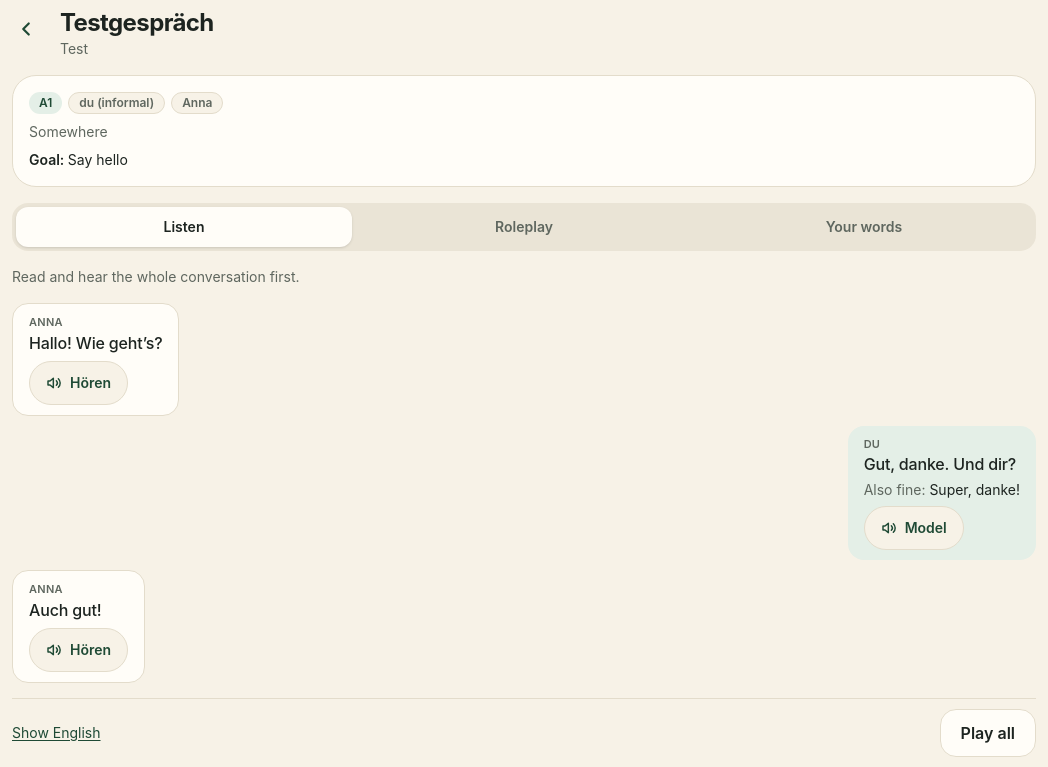
Test: ConversationPage roleplay › hides the learner line until it has been said, then logs practice
Expected: the heading "Testgespräch" is shown, [60,7,214,39]
Click the tab "Roleplay". click: {"x": 524, "y": 227}
box: [356,207,692,247]
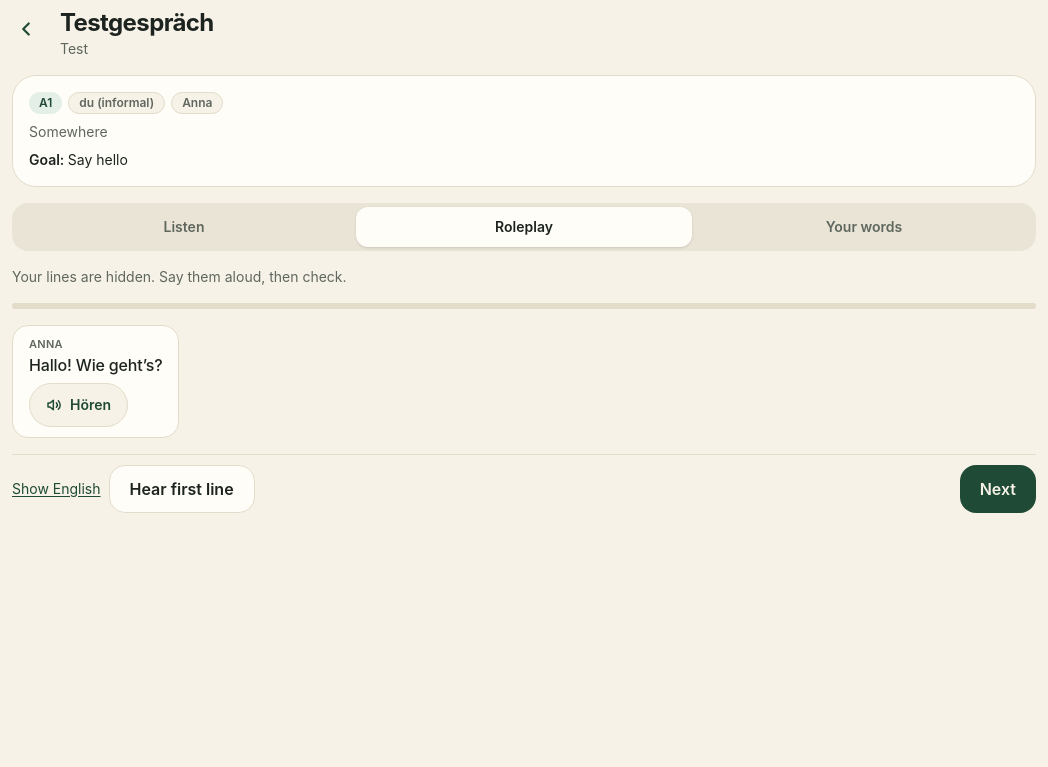
Expected: the text "Hallo! Wie geht’s?" is shown, [29,352,162,376]
Click the button "Next". click: {"x": 998, "y": 488}
box: [960,464,1036,512]
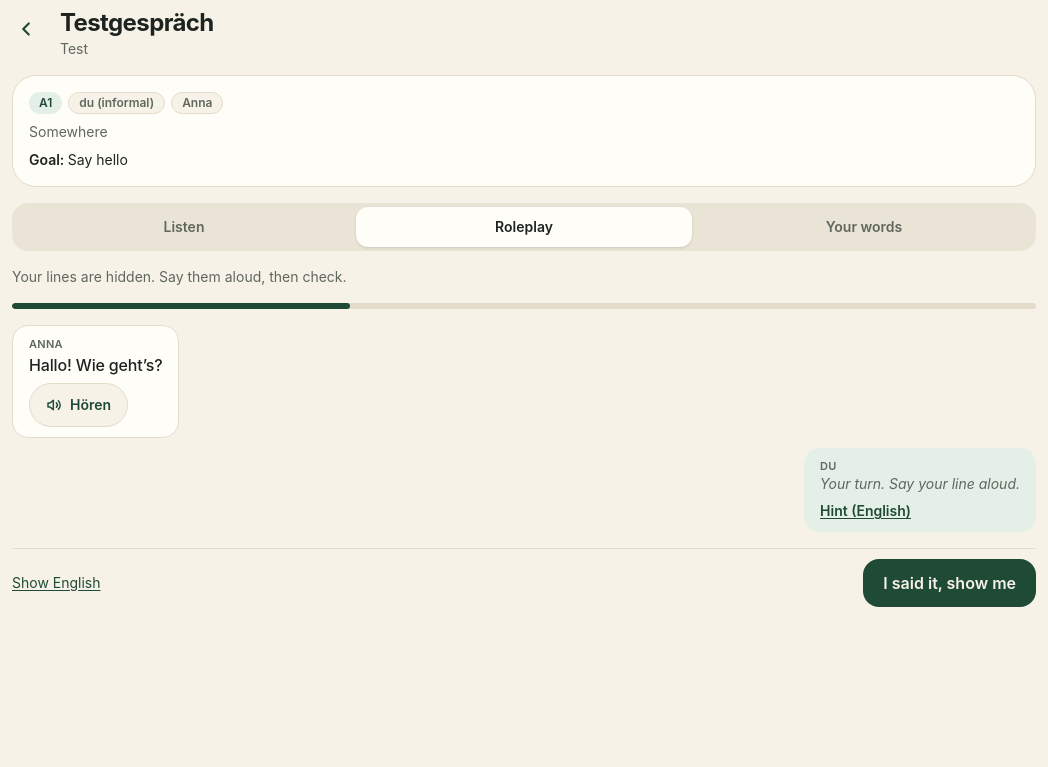
Expected: the text "Gut, danke. Und dir?" is not shown
Expected: the text "Your turn. Say your line aloud." is shown, [820,474,1020,494]
Click the button "I said it, show me". click: {"x": 950, "y": 583}
box: [863,559,1036,607]
(page scrolled)
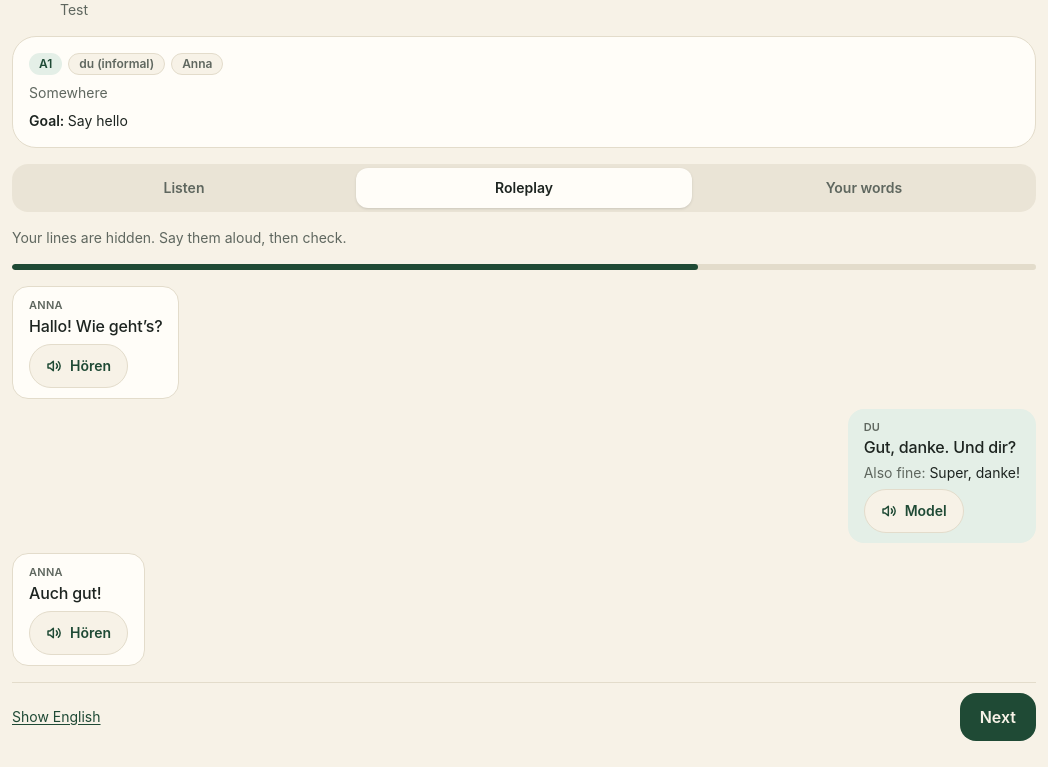
Expected: the text "Gut, danke. Und dir?" is shown, [864,435,1020,459]
Expected: the text "Super, danke!" is shown, [929,464,1020,481]
Click the button "Next". click: {"x": 998, "y": 716}
box: [960,692,1036,740]
(page scrolled)
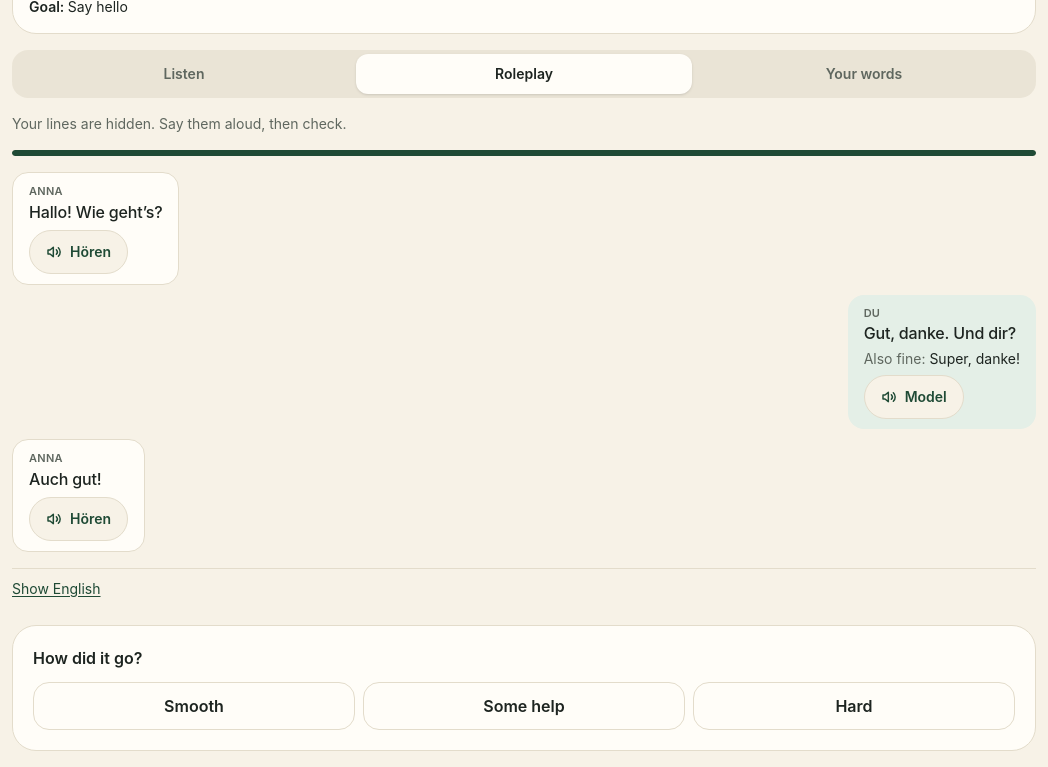
Click the button "Some help". click: {"x": 524, "y": 706}
box: [363,682,685,730]
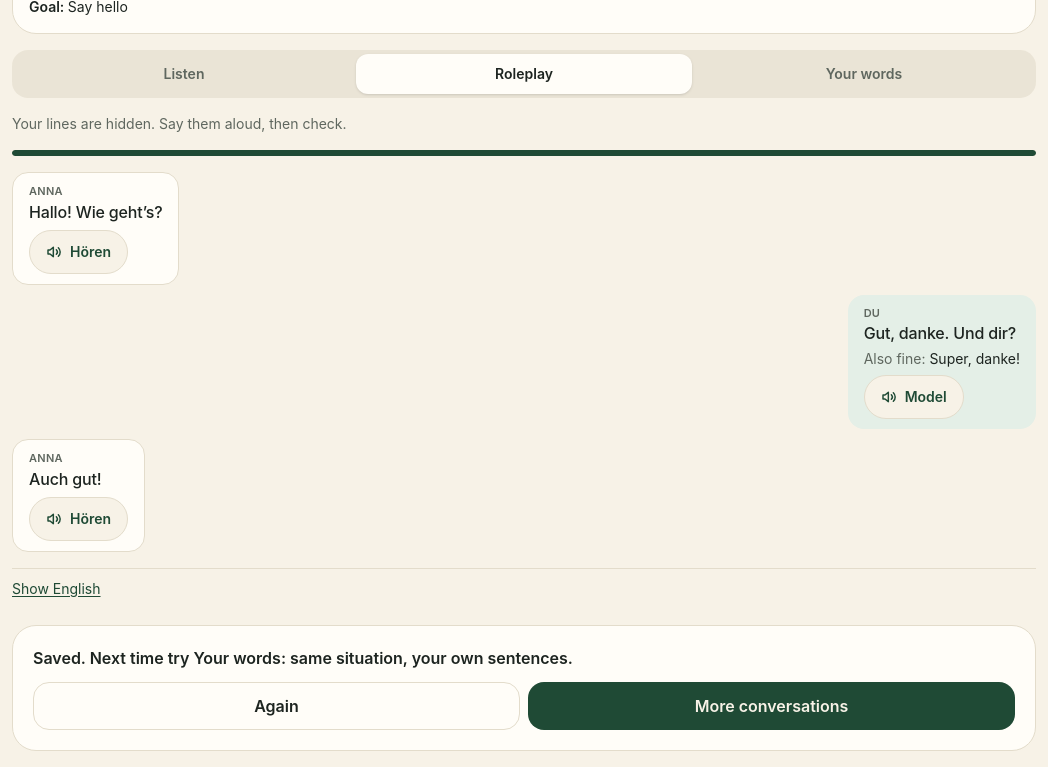
Expected: the text "Saved" is shown, [33,648,90,668]
